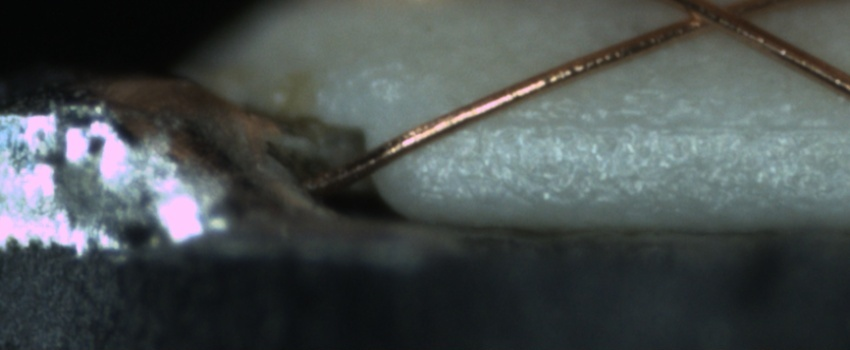CL: (657, 0, 765, 38)
DL: (453, 90, 850, 154)
